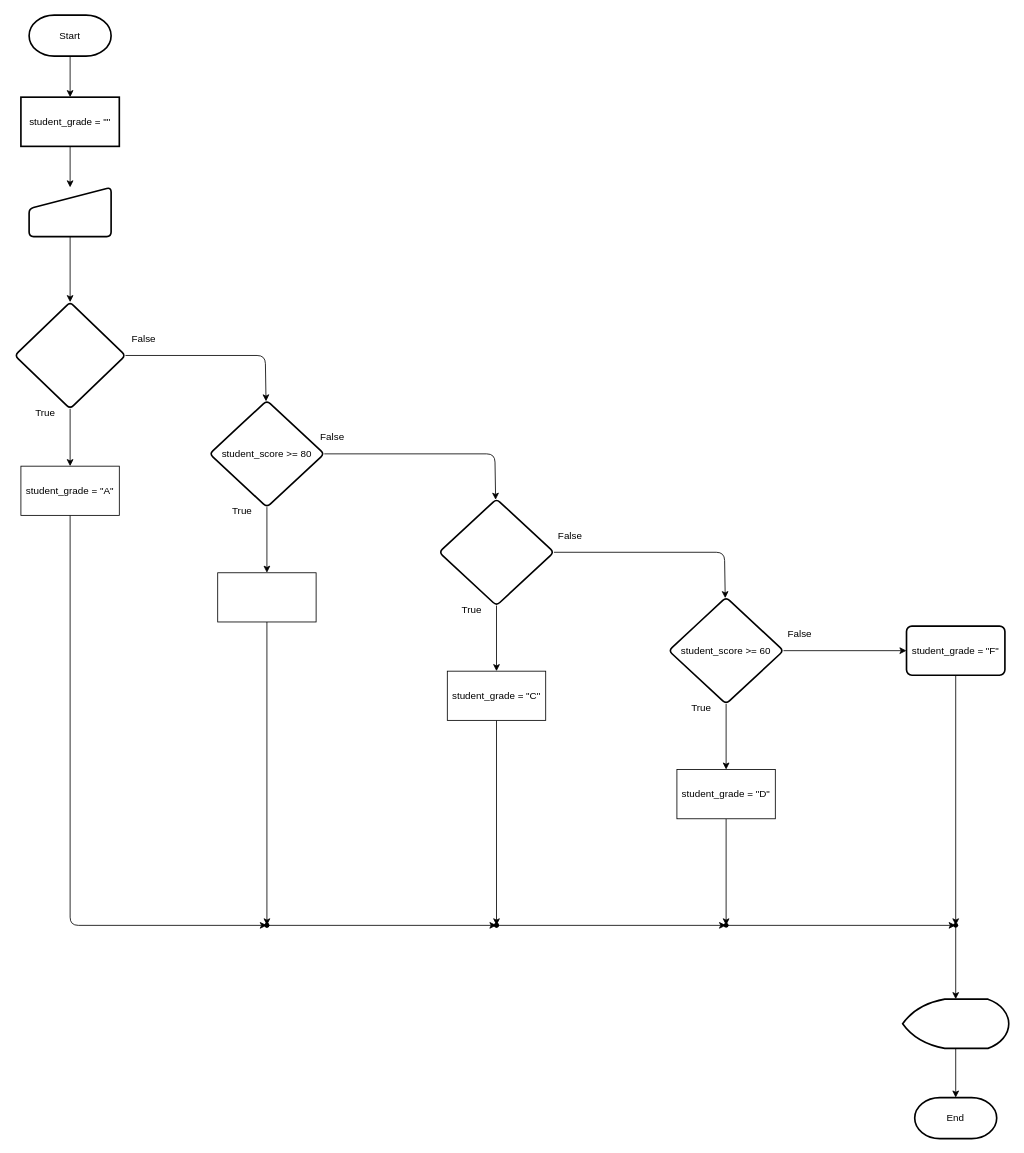
Image size: 1024x1153. Some labels were removed from this diagram. Each missing label, with the box of its shape:
"Your grade is %s": (901, 998, 1009, 1049)
student_grade = "B": (217, 572, 316, 622)
student_score: (28, 186, 112, 237)
student_score >= 70: (438, 498, 554, 606)
student_score >= 90: (14, 301, 126, 409)
